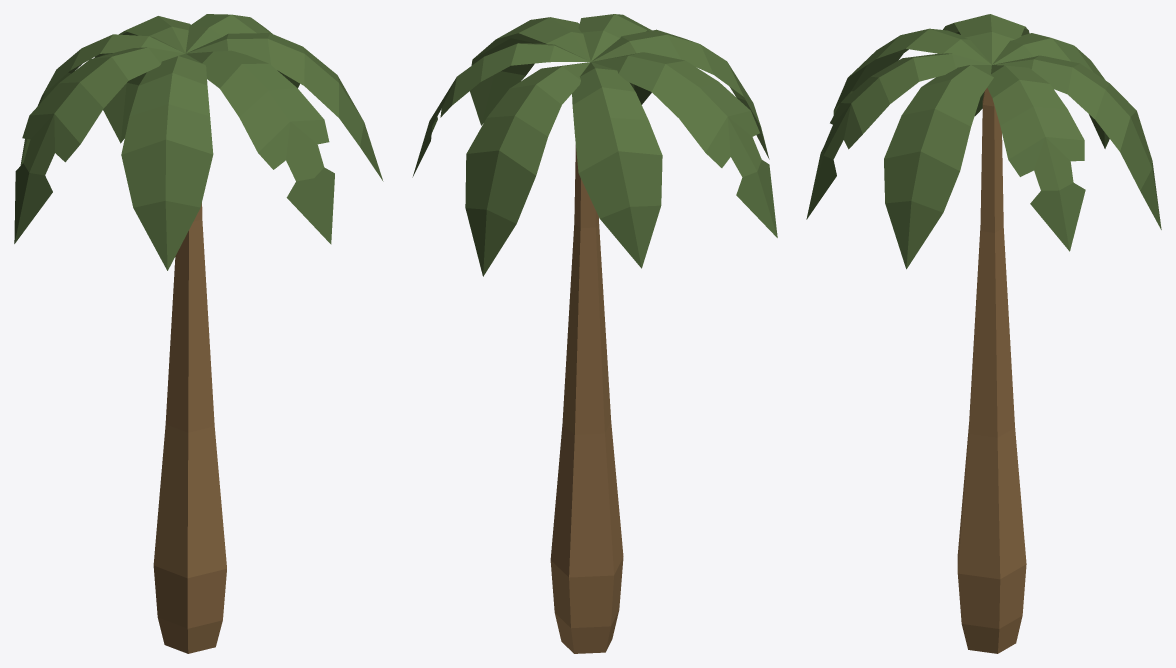
The model's file is tree_palm03.fbx.
The picture shows the model from 3 angles, left to right: view 1: azimuth 30°, elevation 25°; view 2: azimuth 150°, elevation 25°; view 3: azimuth 270°, elevation 25°; orthographic projection. The views are drawn at different scales.
Parts seen in each view (by area): view 1: tree_palm_03; view 2: tree_palm_03; view 3: tree_palm_03.
Part boxes in pixels (left/top/right/bottom): tree_palm_03: left=14, top=14, right=383, bottom=653; tree_palm_03: left=412, top=14, right=777, bottom=653; tree_palm_03: left=806, top=14, right=1161, bottom=653.
Size of the model in its own units: 3.58 by 3.37 by 6.19.
